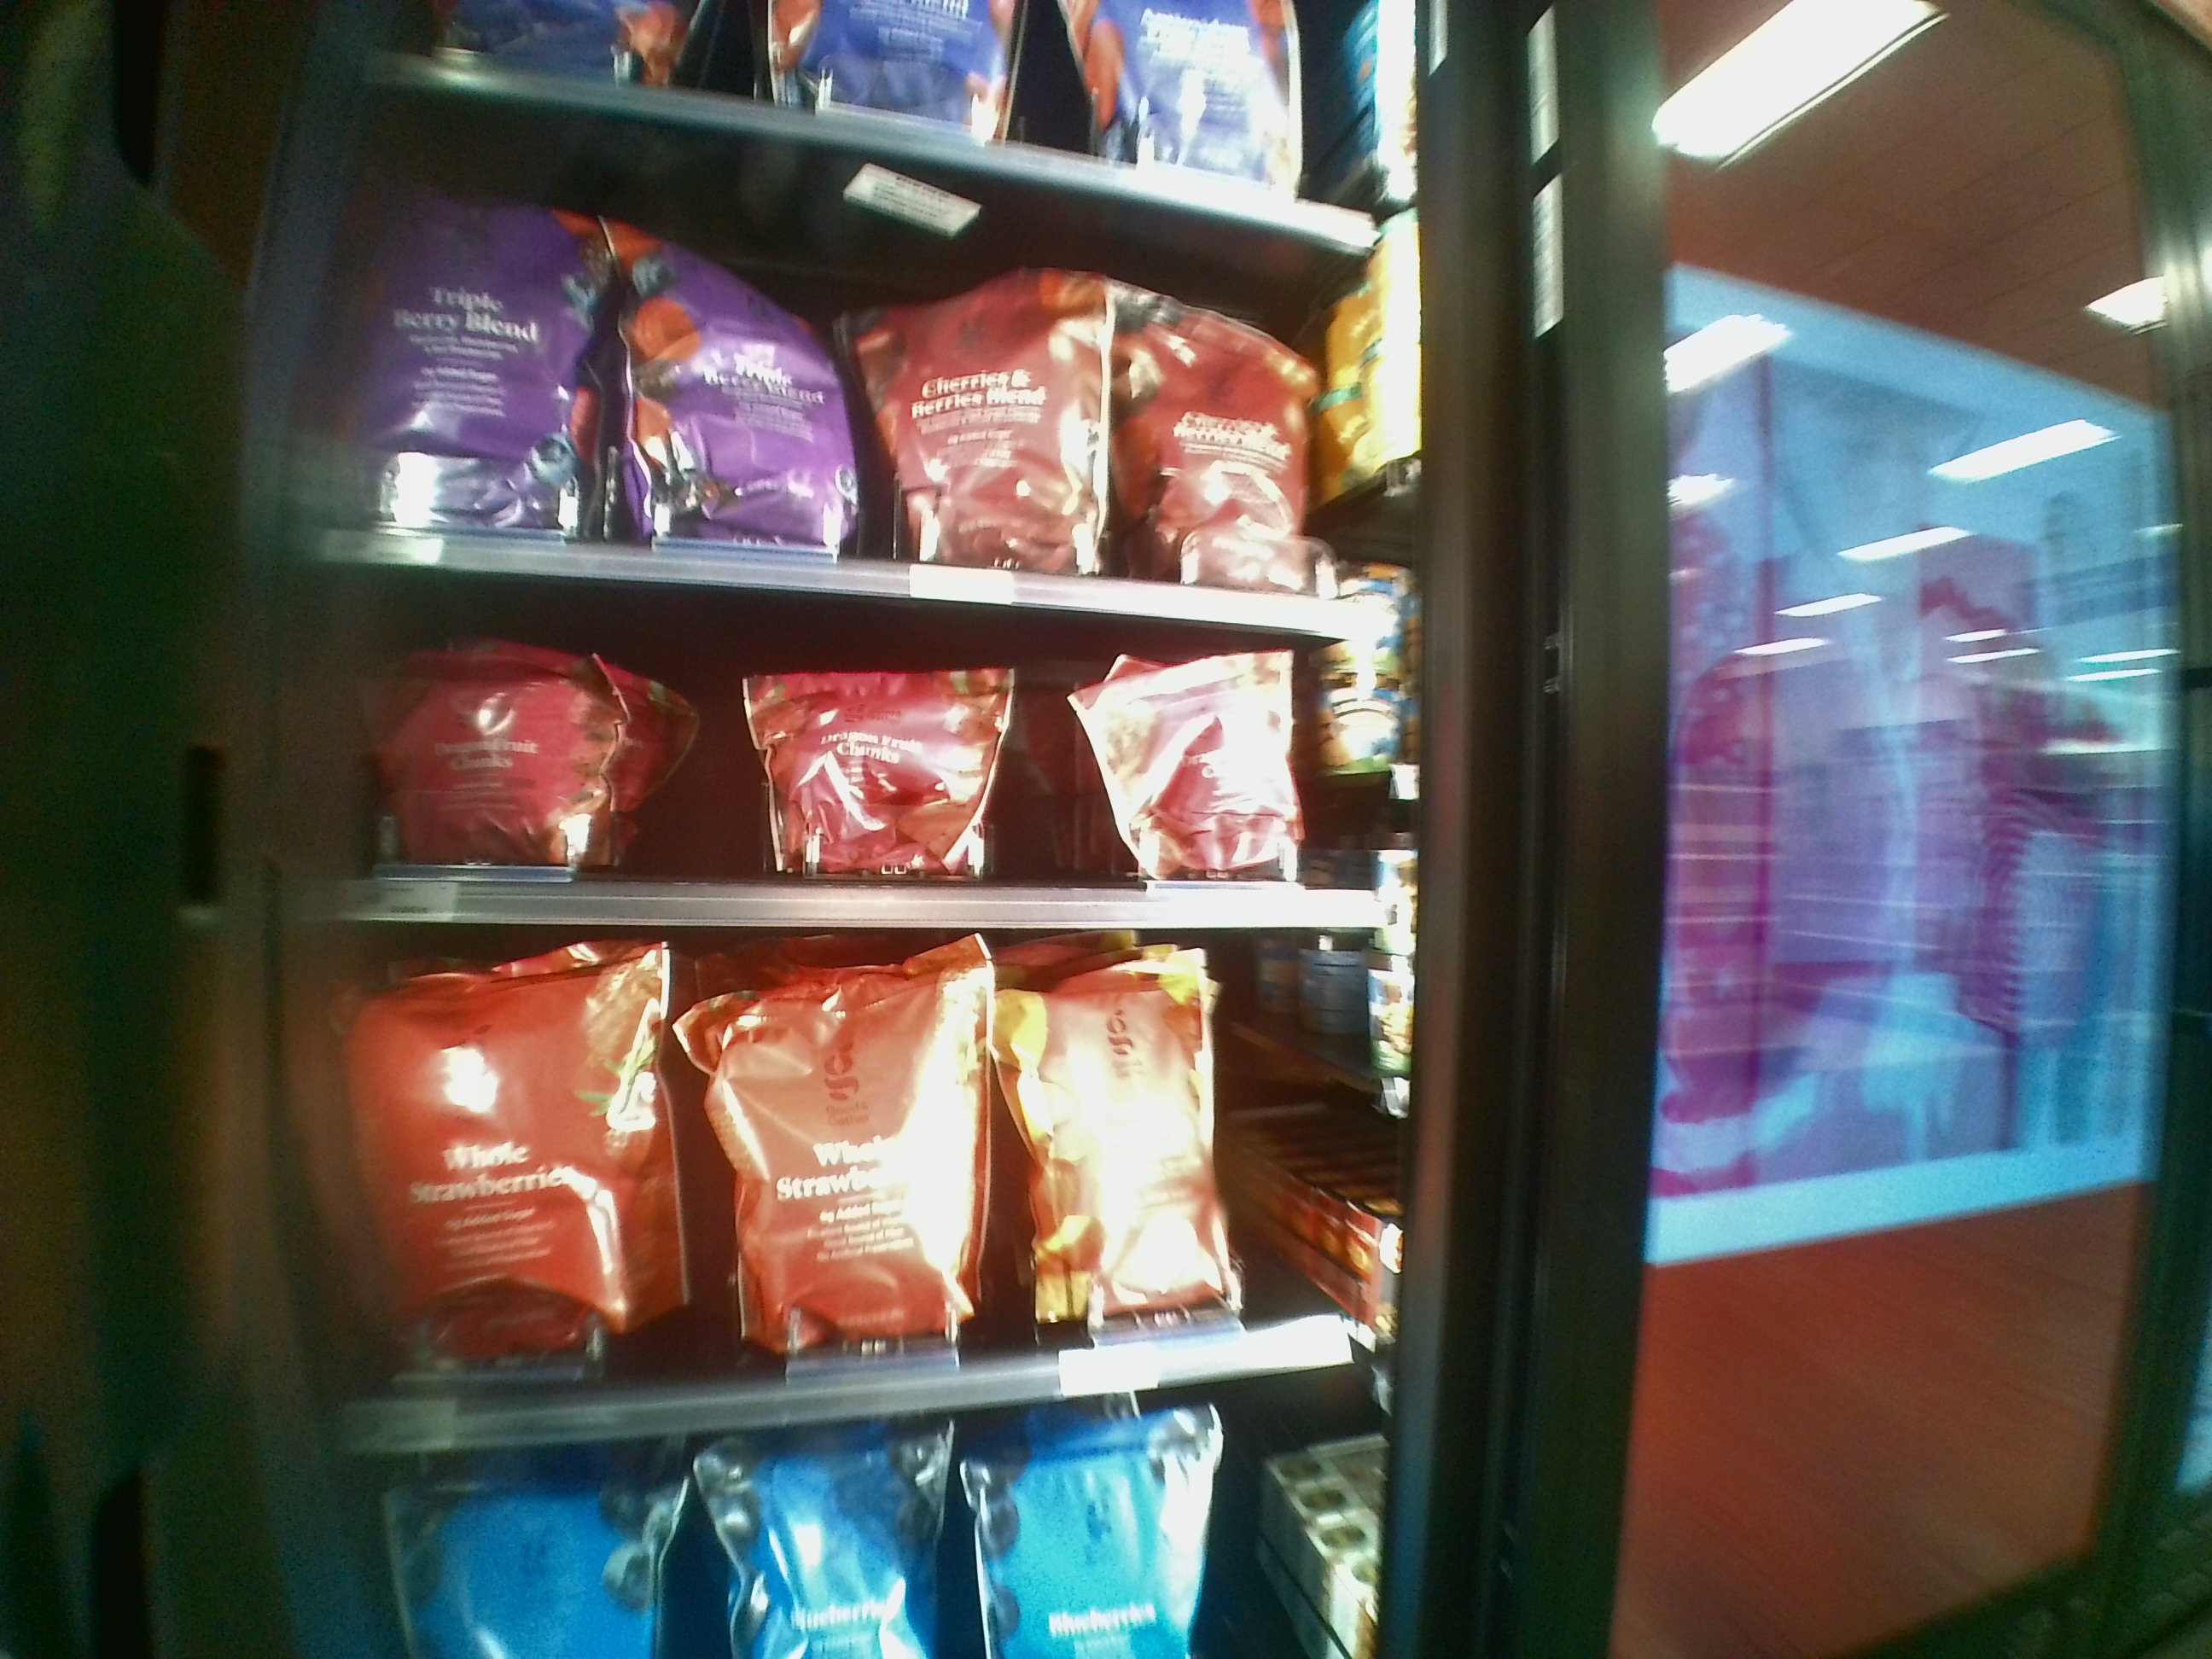shelf: (314, 917, 1409, 1391), (317, 171, 1390, 619), (319, 620, 1411, 936)
